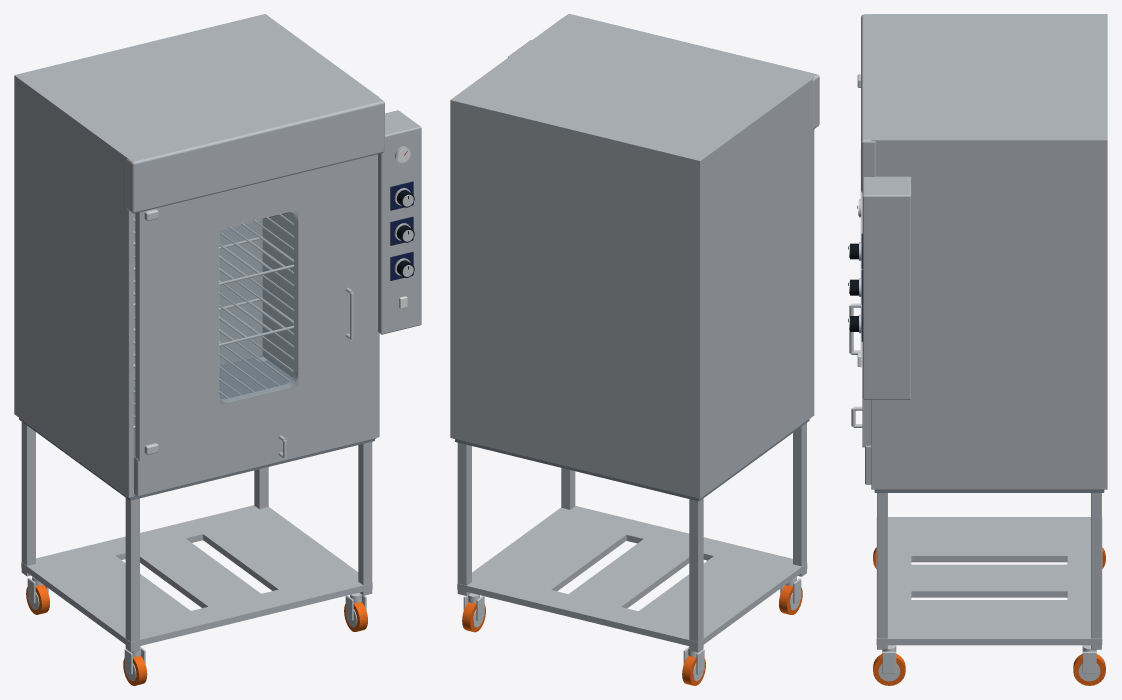
The model's file is horno-multiuso-v2.glb.
3 views of the same model, side by side, from view 1: azimuth 30°, elevation 25°; view 2: azimuth 150°, elevation 25°; view 3: azimuth 270°, elevation 25° (orthographic). The views are drawn at different scales.
Parts seen in each view (by area): view 1: Fijo_Acero_satinado, Puerta_horno_multiuso_Acero_satinado, Puerta_horno_multiuso_Visor_vidrio, Fijo_Acero_pulido, Fijo_Interior_acero, Fijo_Ruedas_naranjas, Fijo_Placa_control_azul; view 2: Fijo_Acero_satinado, Fijo_Ruedas_naranjas, Fijo_Acero_pulido, Fijo_Interior_acero; view 3: Fijo_Acero_satinado, Fijo_Acero_pulido, Fijo_Ruedas_naranjas, Fijo_Interior_acero, Puerta_horno_multiuso_Acero_satinado, Fijo_Mandos_y_goma.
Boxes of the visible parts, <box> form: Fijo_Acero_satinado: <box>14,14,421,652</box>; Puerta_horno_multiuso_Acero_satinado: <box>135,154,377,462</box>; Puerta_horno_multiuso_Visor_vidrio: <box>220,211,297,404</box>; Fijo_Acero_pulido: <box>27,146,413,680</box>; Fijo_Interior_acero: <box>19,356,374,500</box>; Fijo_Ruedas_naranjas: <box>26,584,367,685</box>; Fijo_Placa_control_azul: <box>390,181,413,280</box>; Fijo_Acero_satinado: <box>450,14,819,652</box>; Fijo_Ruedas_naranjas: <box>462,585,802,685</box>; Fijo_Acero_pulido: <box>463,577,801,680</box>; Fijo_Interior_acero: <box>455,419,809,501</box>; Fijo_Acero_satinado: <box>861,14,1107,649</box>; Fijo_Acero_pulido: <box>849,74,1100,681</box>; Fijo_Ruedas_naranjas: <box>873,547,1105,685</box>; Fijo_Interior_acero: <box>874,489,1104,492</box>; Puerta_horno_multiuso_Acero_satinado: <box>862,193,871,447</box>; Fijo_Mandos_y_goma: <box>850,243,858,331</box>.
Size of the model in its own units: 0.993 by 1.75 by 0.746.
